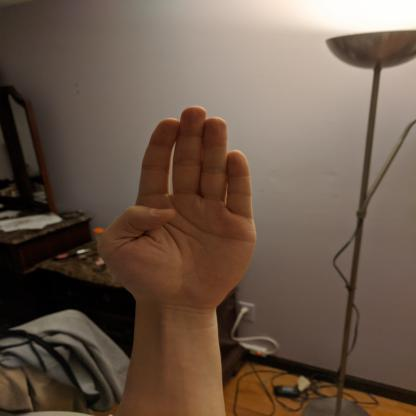B: (93, 102, 263, 318)
